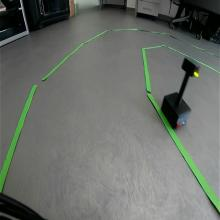green: (181, 58, 201, 78)
